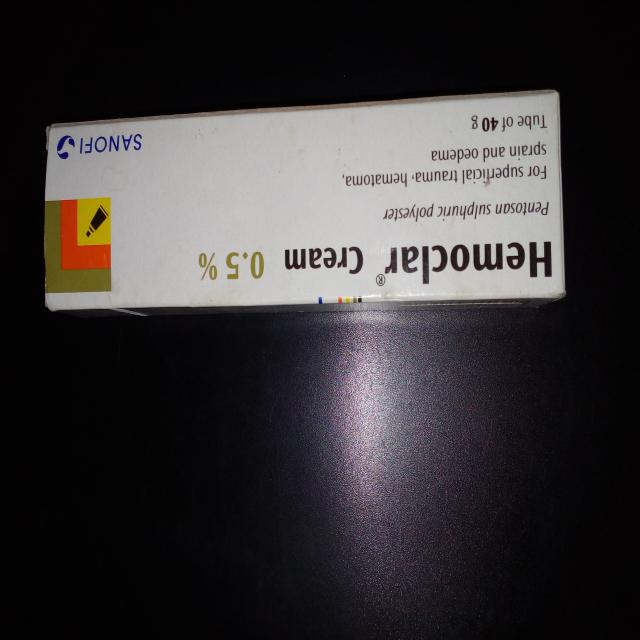Medicine: (42, 88, 570, 316)
